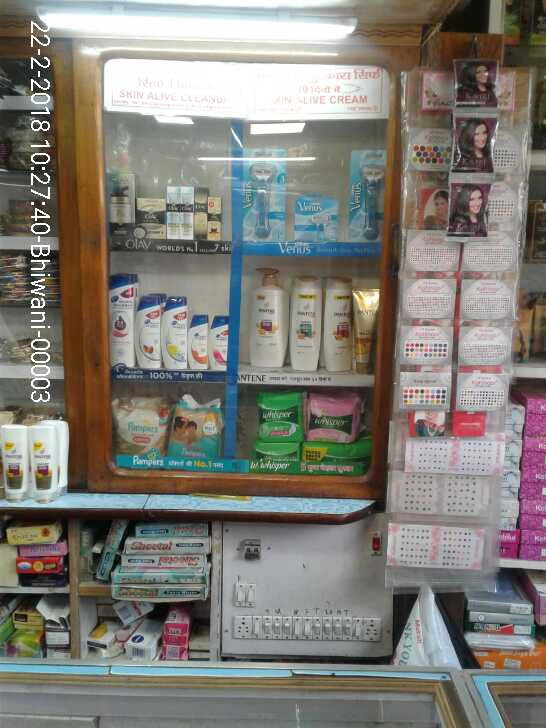venus: (348, 147, 384, 238), (248, 148, 284, 239), (295, 201, 336, 239)
